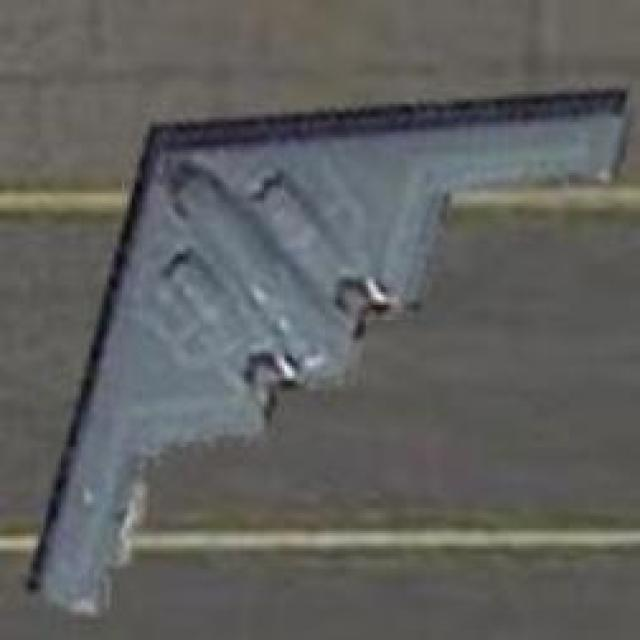B-2_TopDown: (18, 76, 637, 617)
